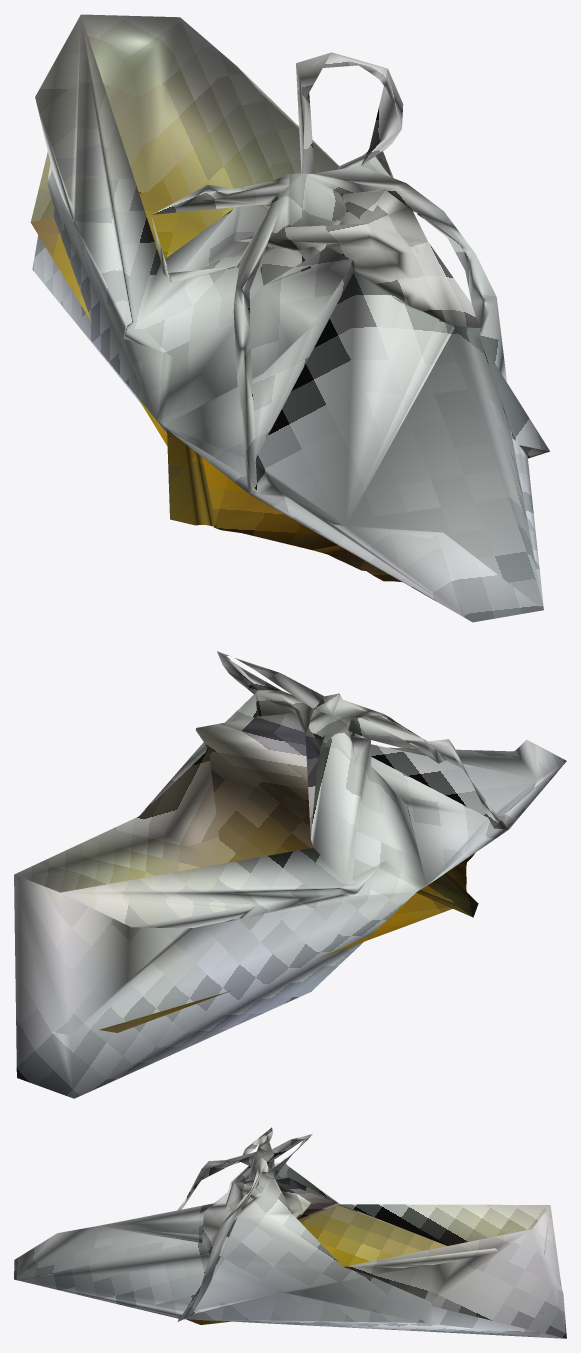
Rendered from Womens_Sequin_Bahama_in_White_Sequin_yGVsSA4tOwJ-low.glb.
The picture shows the model from 3 angles, top to bottom: view 1: azimuth 30°, elevation 25°; view 2: azimuth 150°, elevation 25°; view 3: azimuth 270°, elevation 25°; orthographic projection. The views are drawn at different scales.
Parts seen in each view (by area): view 1: Womens_Sequin_Bahama_in_White_Sequin_yGVsSA4tOwJ; view 2: Womens_Sequin_Bahama_in_White_Sequin_yGVsSA4tOwJ; view 3: Womens_Sequin_Bahama_in_White_Sequin_yGVsSA4tOwJ.
Boxes of the visible parts, x1=… form: Womens_Sequin_Bahama_in_White_Sequin_yGVsSA4tOwJ: x1=30, y1=14, x2=549, y2=622; Womens_Sequin_Bahama_in_White_Sequin_yGVsSA4tOwJ: x1=14, y1=651, x2=566, y2=1098; Womens_Sequin_Bahama_in_White_Sequin_yGVsSA4tOwJ: x1=14, y1=1127, x2=566, y2=1338.
Size of the model in its own units: 0.0886 by 0.1013 by 0.2444.
Materials: 1 (1 with a texture image).
